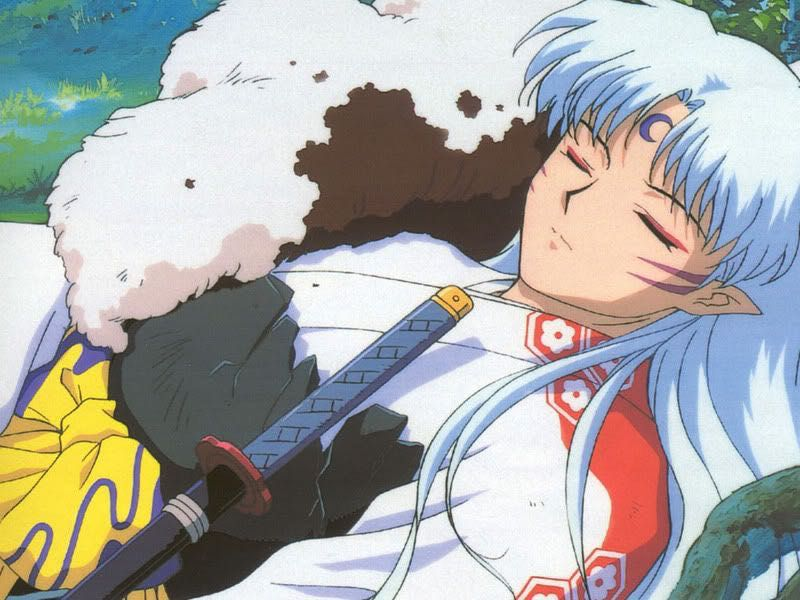sesshomaru: (398, 1, 800, 416)
